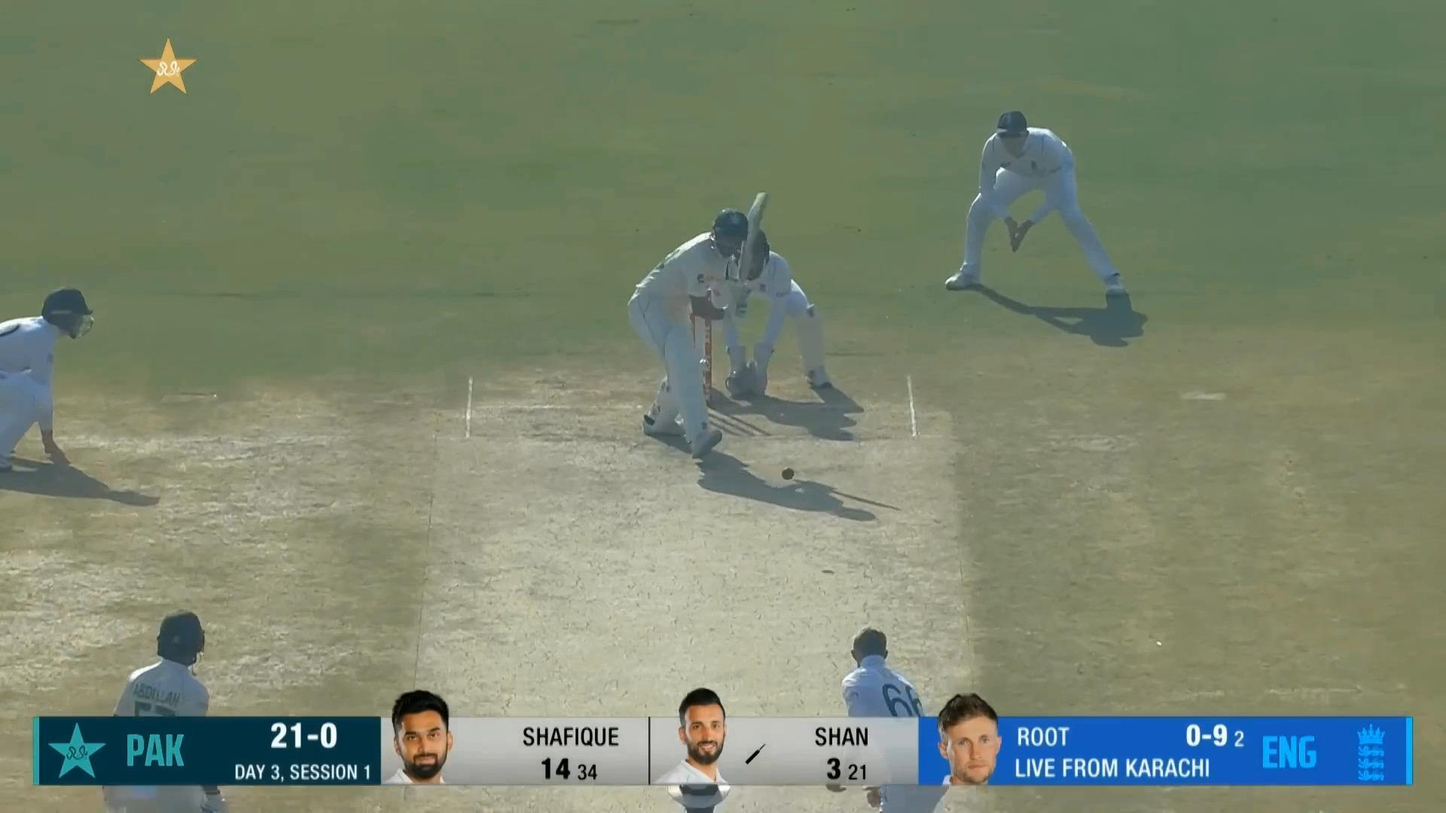BM 1: (624, 189, 770, 460)
BO: (825, 626, 966, 813)
